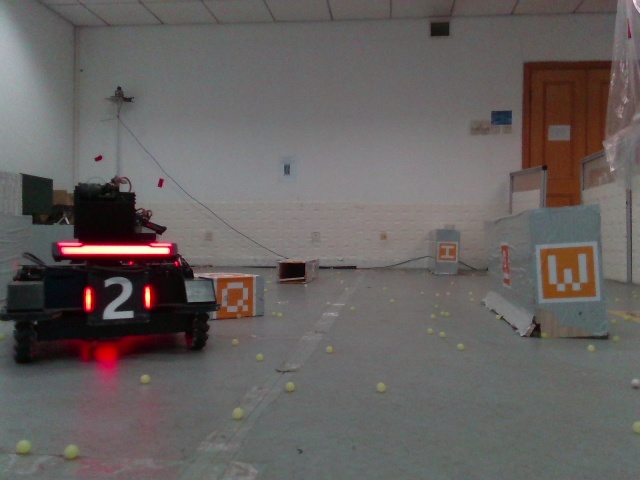Robot_Red: (1, 185, 220, 365)
armor_Red: (83, 276, 153, 320)
